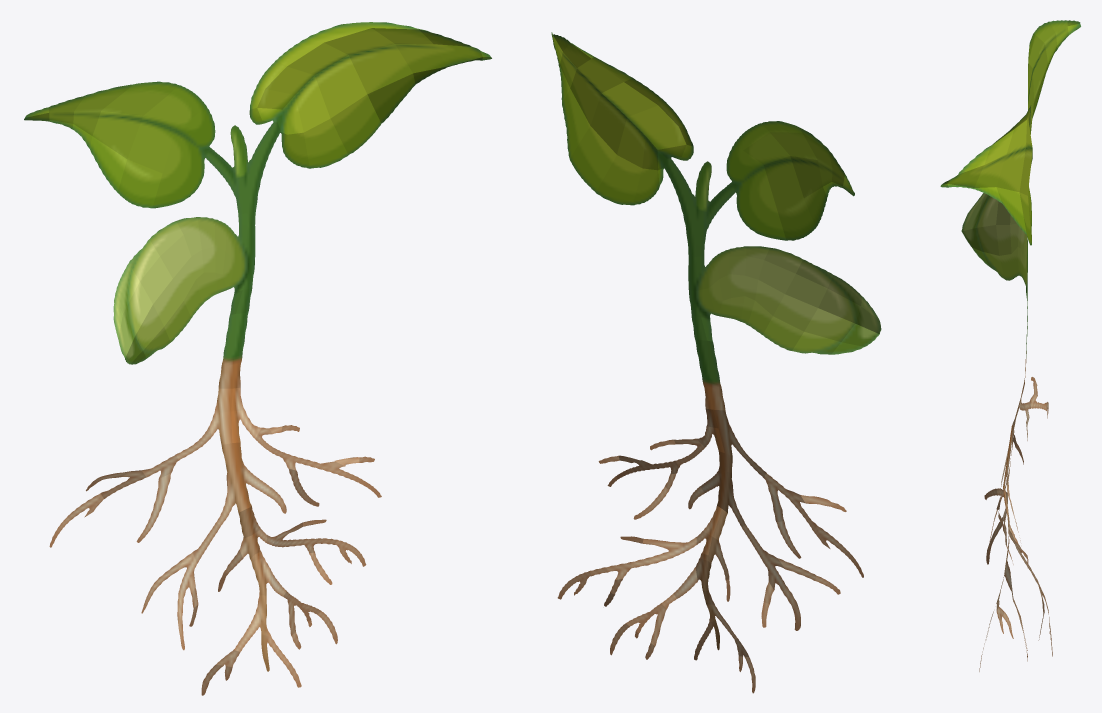
File: plant.gltf
The picture shows the model from 3 angles, left to right: view 1: azimuth 30°, elevation 25°; view 2: azimuth 150°, elevation 25°; view 3: azimuth 270°, elevation 25°; orthographic projection. The views are drawn at different scales.
Visible parts, largest first — view 1: Plant; view 2: Plant; view 3: Plant.
Boxes of the visible parts, x1=… form: Plant: x1=24, y1=22, x2=491, y2=695; Plant: x1=551, y1=32, x2=881, y2=693; Plant: x1=940, y1=20, x2=1080, y2=671.
Size of the model in its own units: 0.7576 by 1.13 by 0.2834.
Materials: 1 (1 with a texture image).
